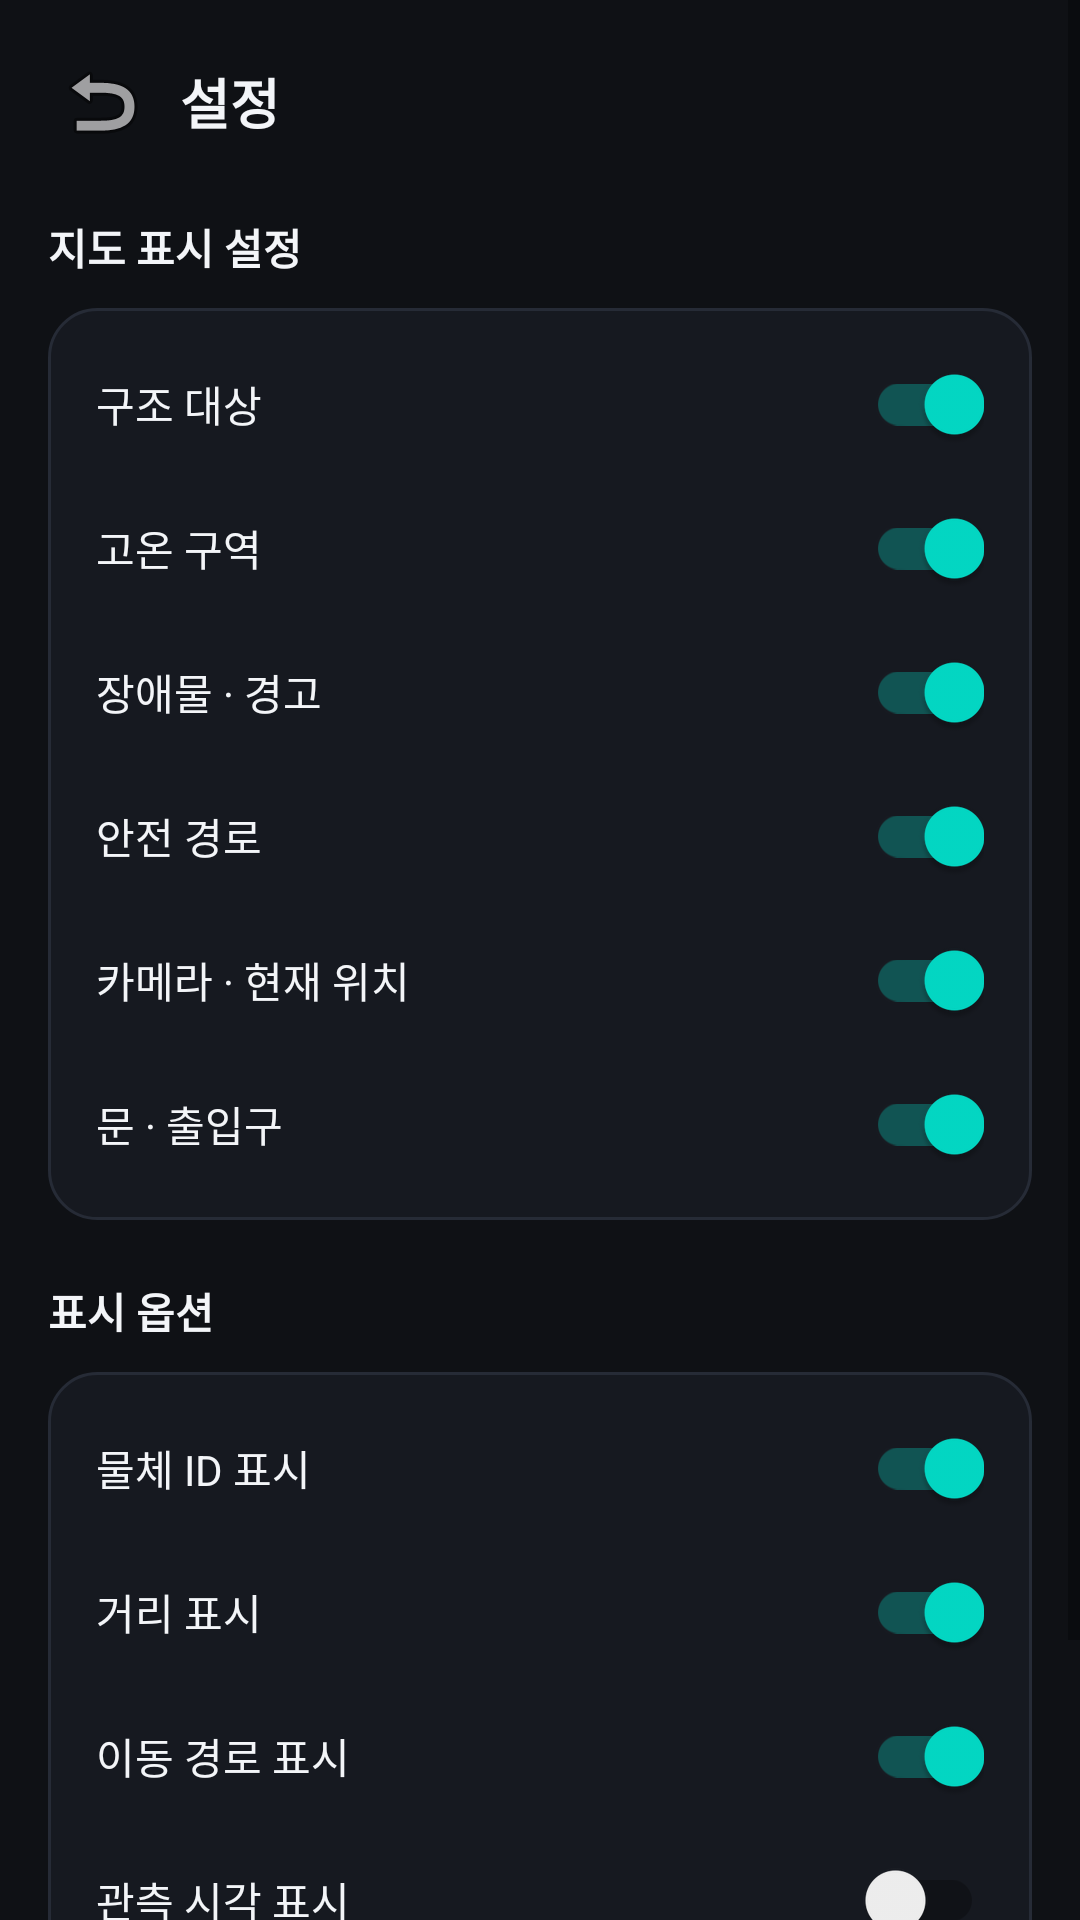

Where icons sit on this 1080px×1920px app screen, as (x1, y1, x2, y2):
뒤로가기: (72, 74, 135, 131)
